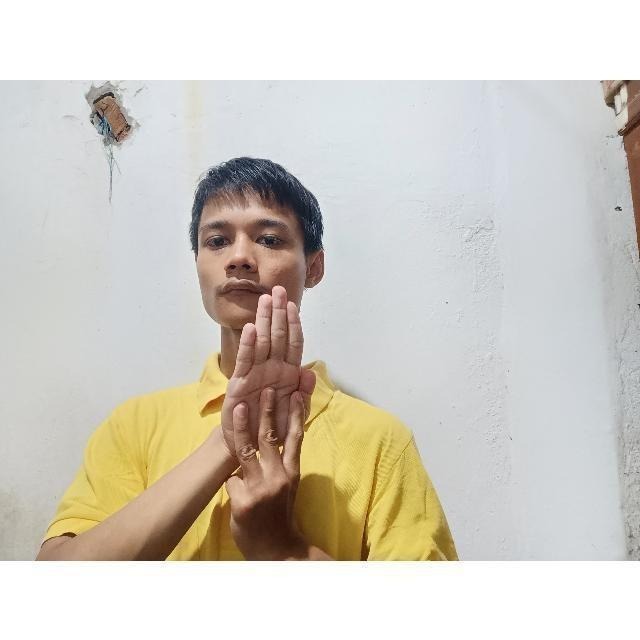M: (213, 276, 324, 514)
